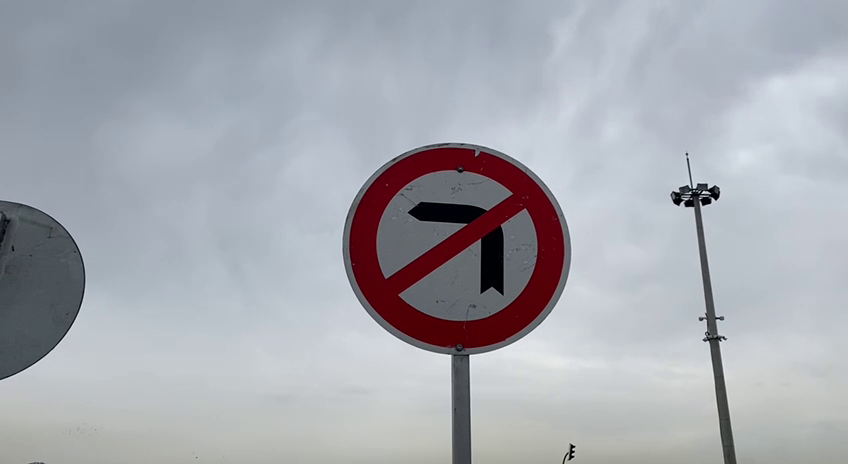noTurnLeft: (339, 137, 580, 360)
